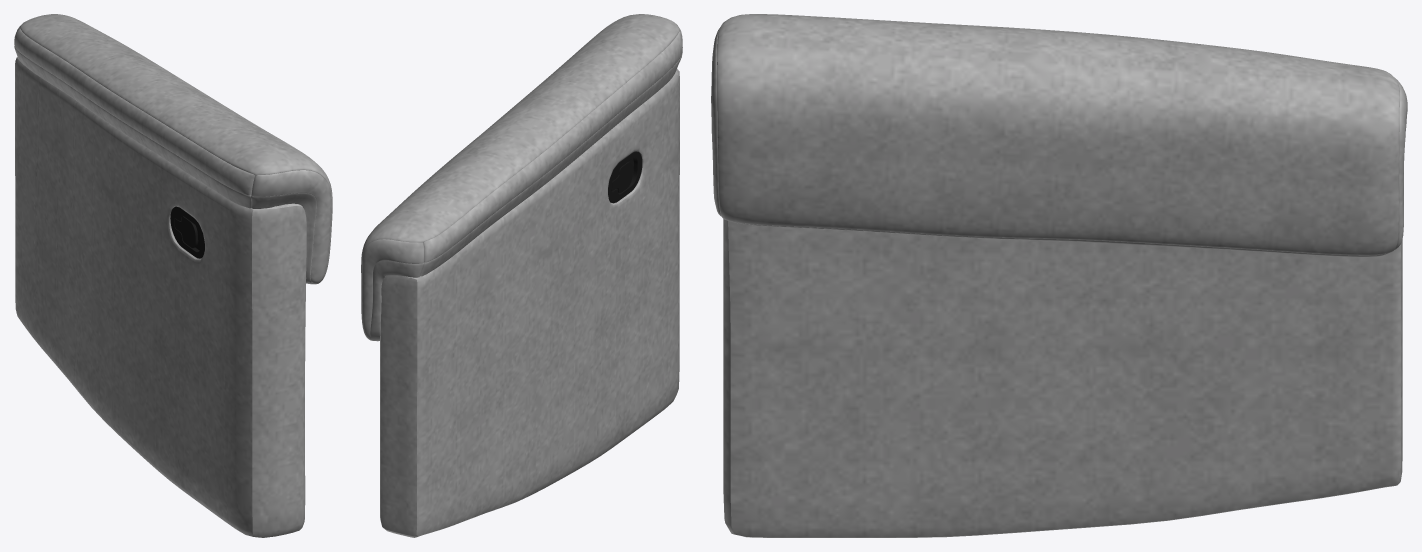
Rendered from armrest.glb.
3 views of the same model, side by side, from view 1: azimuth 30°, elevation 25°; view 2: azimuth 150°, elevation 25°; view 3: azimuth 270°, elevation 25° (orthographic). The views are drawn at different scales.
Visible parts, largest first — view 1: Armrest; view 2: Armrest; view 3: Armrest.
Boxes of the visible parts, box(x1,y1,x2,y2) form: Armrest: box(14, 14, 332, 537); Armrest: box(361, 14, 682, 537); Armrest: box(711, 14, 1407, 537).
Bounding box in the file's own units: 0.1524 × 0.6228 × 0.7826.
1 material, 1 textured.
